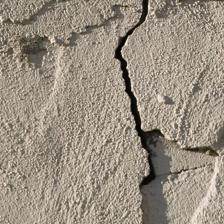Crack: (0, 34, 109, 134), (45, 54, 110, 166)
